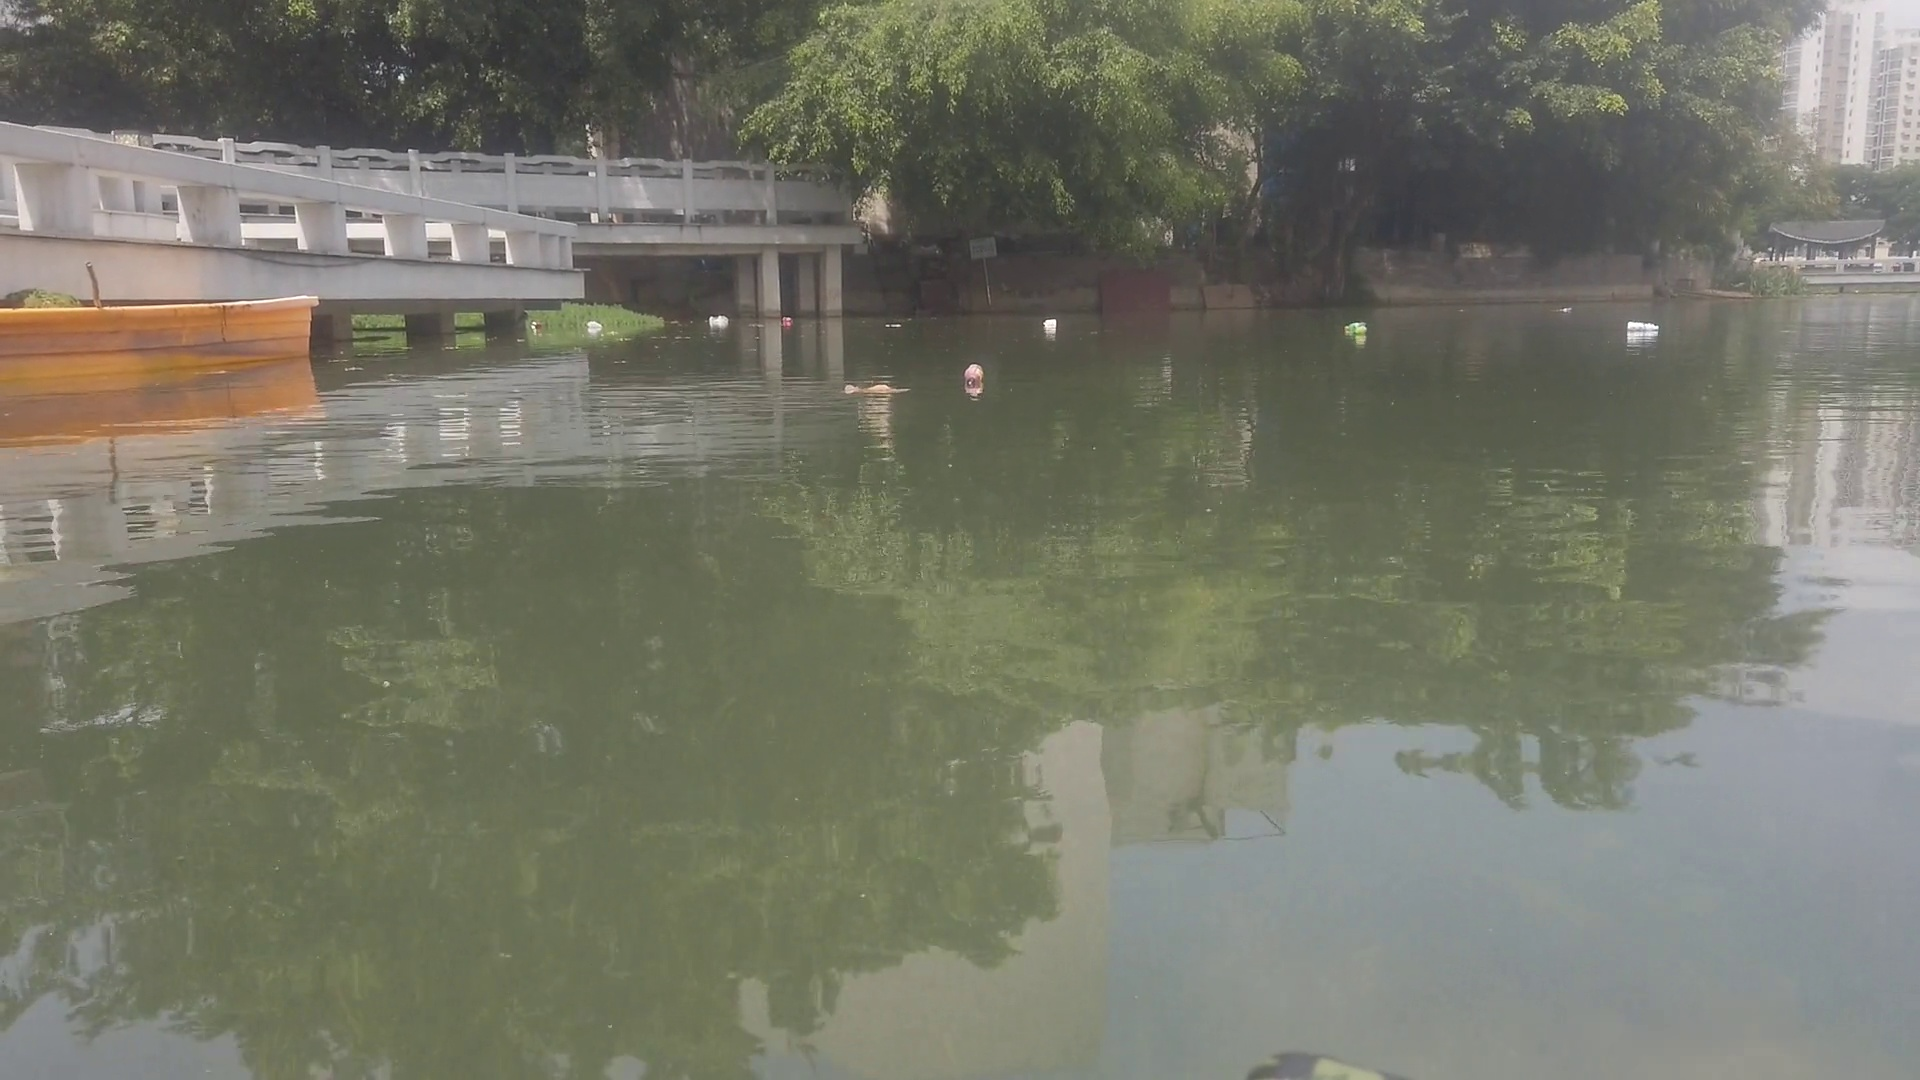bottle: (1623, 315, 1659, 334), (963, 361, 985, 389), (1338, 319, 1371, 334), (778, 315, 793, 324)
carton: (1044, 319, 1056, 330)
paper: (844, 380, 916, 394), (884, 320, 909, 328)
plastic: (703, 311, 732, 324), (583, 320, 605, 332), (527, 319, 545, 332)
